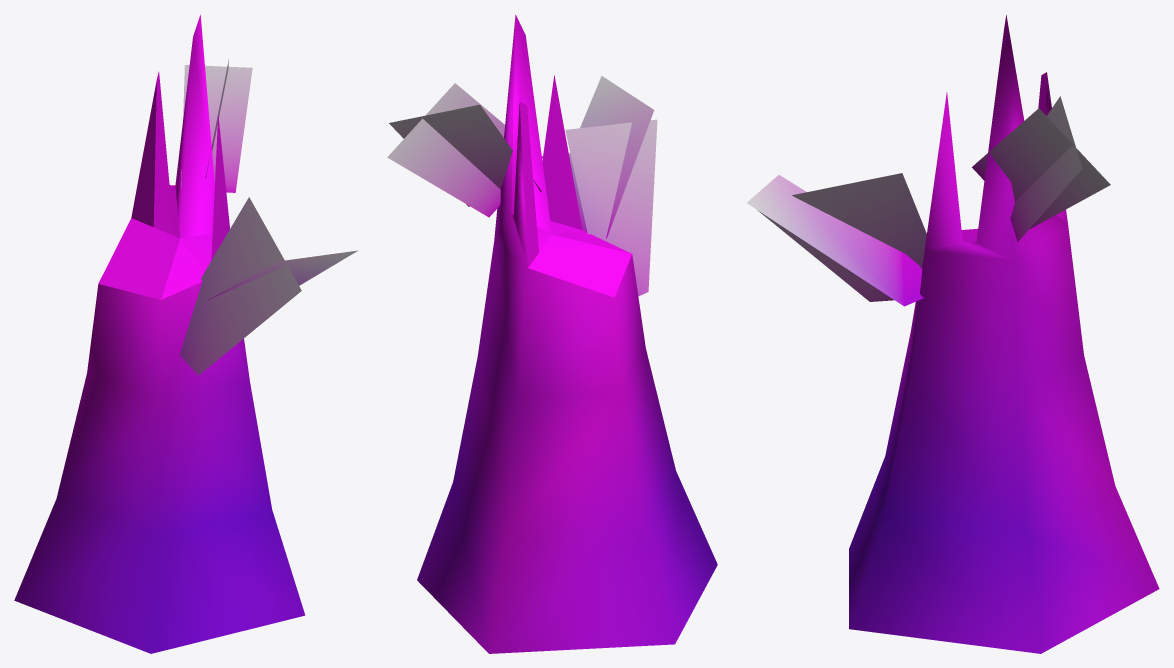
Rendered from SM_Stump_02.FBX.
3 renders of one model, left to right at view 1: azimuth 30°, elevation 25°; view 2: azimuth 150°, elevation 25°; view 3: azimuth 270°, elevation 25°, orthographic. The views are drawn at different scales.
Visible parts, largest first — view 1: SM_Stump_02; view 2: SM_Stump_02; view 3: SM_Stump_02.
Part boxes in pixels (x1,y1,x2,y2): SM_Stump_02: (14, 14, 357, 653); SM_Stump_02: (387, 15, 717, 653); SM_Stump_02: (747, 15, 1159, 653).
Size of the model in its own units: 64.22 by 82.78 by 133.
